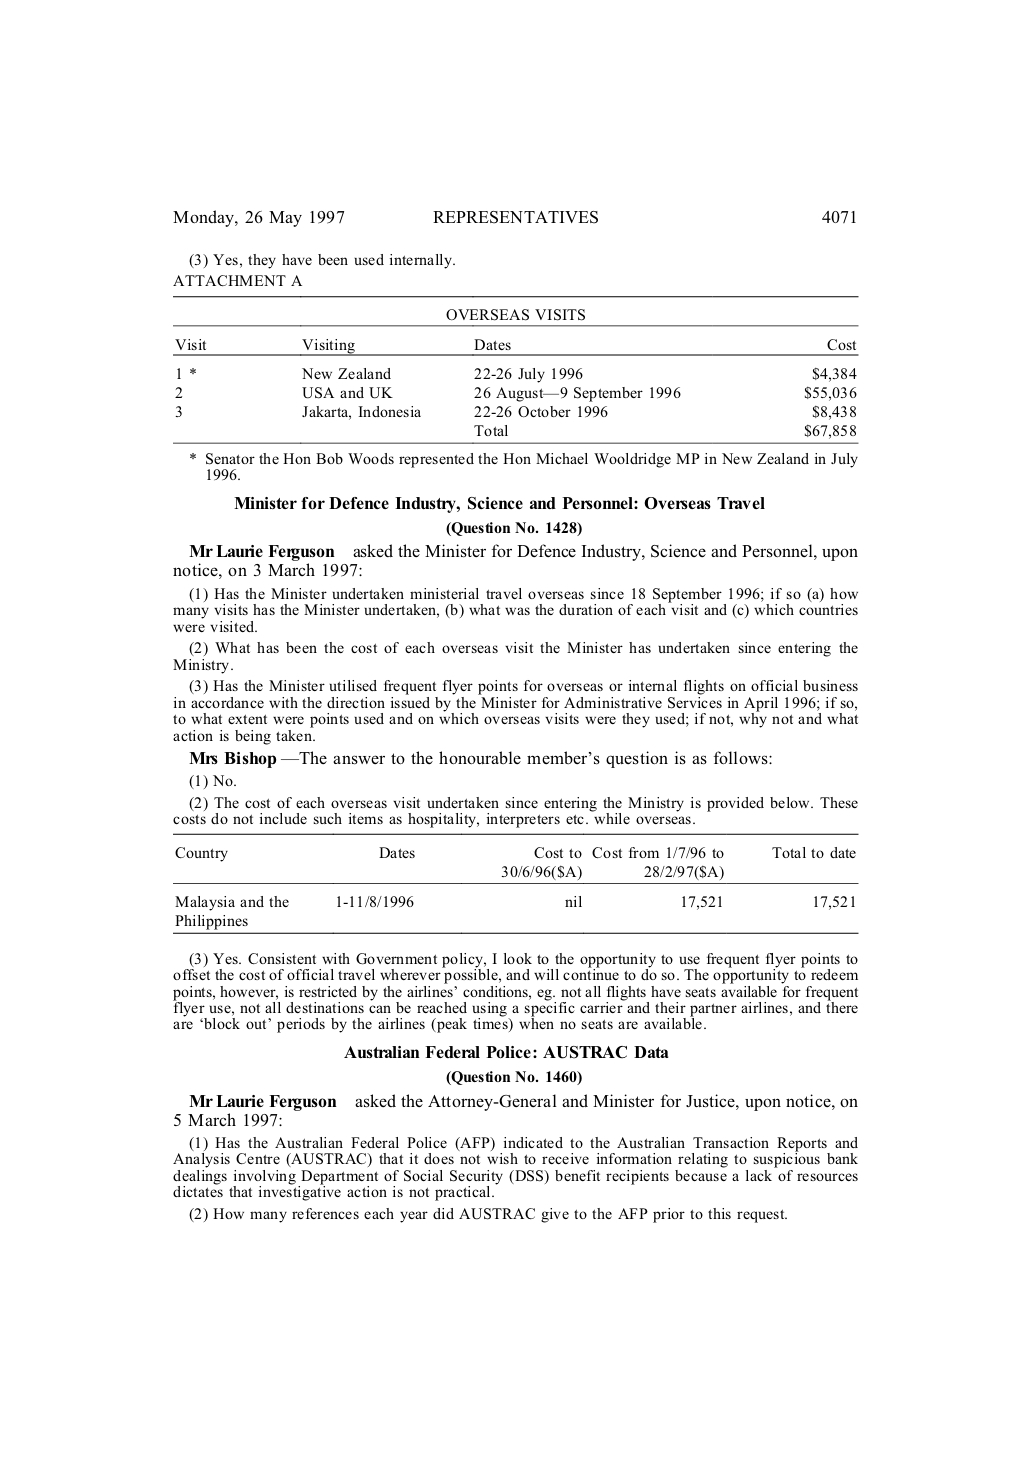Table: (173, 296, 858, 443), (173, 833, 858, 933)
